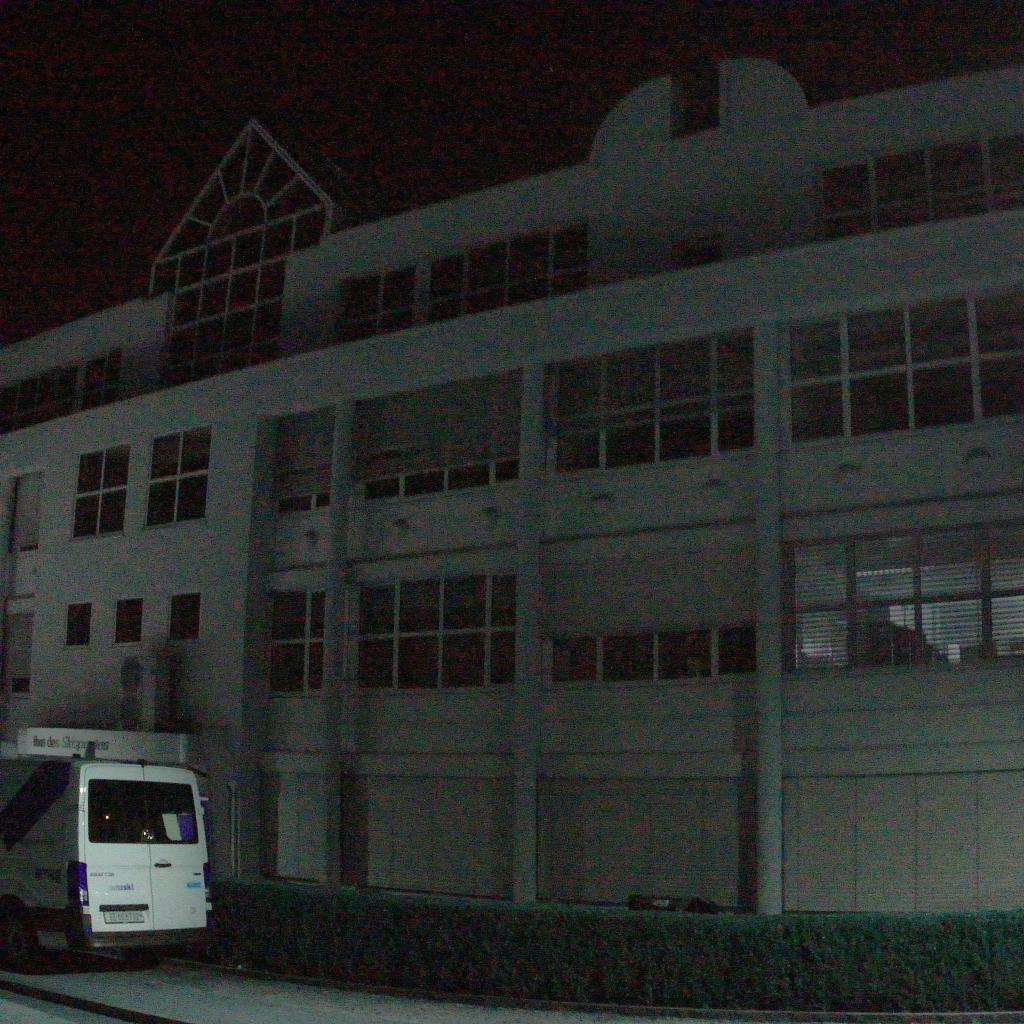car: (0, 728, 218, 974)
facade: (0, 44, 1024, 913)
street: (0, 952, 717, 1024)
vegetation: (166, 882, 1024, 1011)
window: (152, 126, 326, 389), (783, 281, 1024, 451), (780, 516, 1024, 676), (545, 328, 754, 483), (539, 544, 758, 690), (358, 369, 524, 506), (816, 131, 1024, 240), (351, 571, 516, 696), (428, 222, 590, 322), (263, 588, 327, 699), (145, 423, 212, 528), (335, 261, 417, 346), (275, 407, 336, 514), (0, 360, 77, 435), (72, 444, 131, 539), (669, 62, 721, 143), (9, 470, 44, 553), (0, 612, 33, 699), (81, 348, 122, 412), (169, 591, 201, 642), (681, 233, 722, 267), (115, 597, 143, 644), (66, 603, 92, 646)
